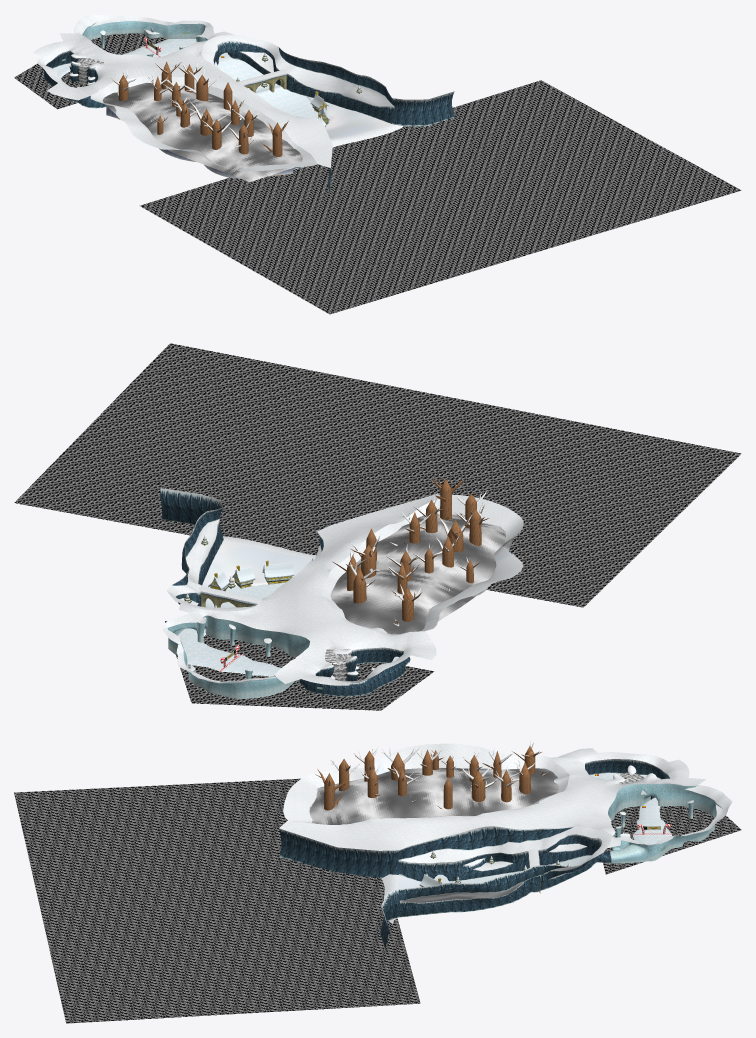
3 renders of one model, top to bottom at view 1: azimuth 30°, elevation 25°; view 2: azimuth 150°, elevation 25°; view 3: azimuth 270°, elevation 25°, orthographic. The views are drawn at different scales.
Visible parts, largest first — view 1: DKR-FV-Water, DKR-FV-SnowSlow, DKR-FV-Fog, DKR-FV-RockWall, DKR-FV-TreeBark, DKR-FV-SnowDrivable, DKR-FV-IceWall; view 2: DKR-FV-Water, DKR-FV-SnowSlow, DKR-FV-Fog, DKR-FV-RockWall, DKR-FV-TreeBark, DKR-FV-IceWall, DKR-FV-SnowDrivable; view 3: DKR-FV-Water, DKR-FV-SnowSlow, DKR-FV-RockWall, DKR-FV-Fog, DKR-FV-TreeBark, DKR-FV-IceWall, DKR-FV-SnowDrivable.
Part boxes in pixels (bbox=[...]): DKR-FV-Water: bbox=[14, 33, 741, 314]; DKR-FV-SnowSlow: bbox=[33, 14, 402, 171]; DKR-FV-Fog: bbox=[102, 82, 302, 182]; DKR-FV-RockWall: bbox=[44, 40, 454, 193]; DKR-FV-TreeBark: bbox=[111, 61, 288, 175]; DKR-FV-SnowDrivable: bbox=[53, 39, 329, 126]; DKR-FV-IceWall: bbox=[82, 21, 207, 56]; DKR-FV-Water: bbox=[14, 343, 741, 710]; DKR-FV-SnowSlow: bbox=[162, 490, 523, 685]; DKR-FV-Fog: bbox=[330, 513, 513, 634]; DKR-FV-RockWall: bbox=[160, 488, 410, 696]; DKR-FV-TreeBark: bbox=[332, 476, 489, 626]; DKR-FV-IceWall: bbox=[167, 615, 331, 699]; DKR-FV-SnowDrivable: bbox=[177, 562, 402, 676]; DKR-FV-Water: bbox=[14, 778, 741, 1023]; DKR-FV-SnowSlow: bbox=[279, 741, 732, 923]; DKR-FV-RockWall: bbox=[279, 759, 670, 948]; DKR-FV-Fog: bbox=[310, 768, 559, 824]; DKR-FV-TreeBark: bbox=[315, 746, 548, 810]; DKR-FV-IceWall: bbox=[608, 772, 722, 863]; DKR-FV-SnowDrivable: bbox=[420, 773, 672, 886].
Bounding box in the file's own units: 122744 × 18653 × 152392.
29 materials, 29 textured.
